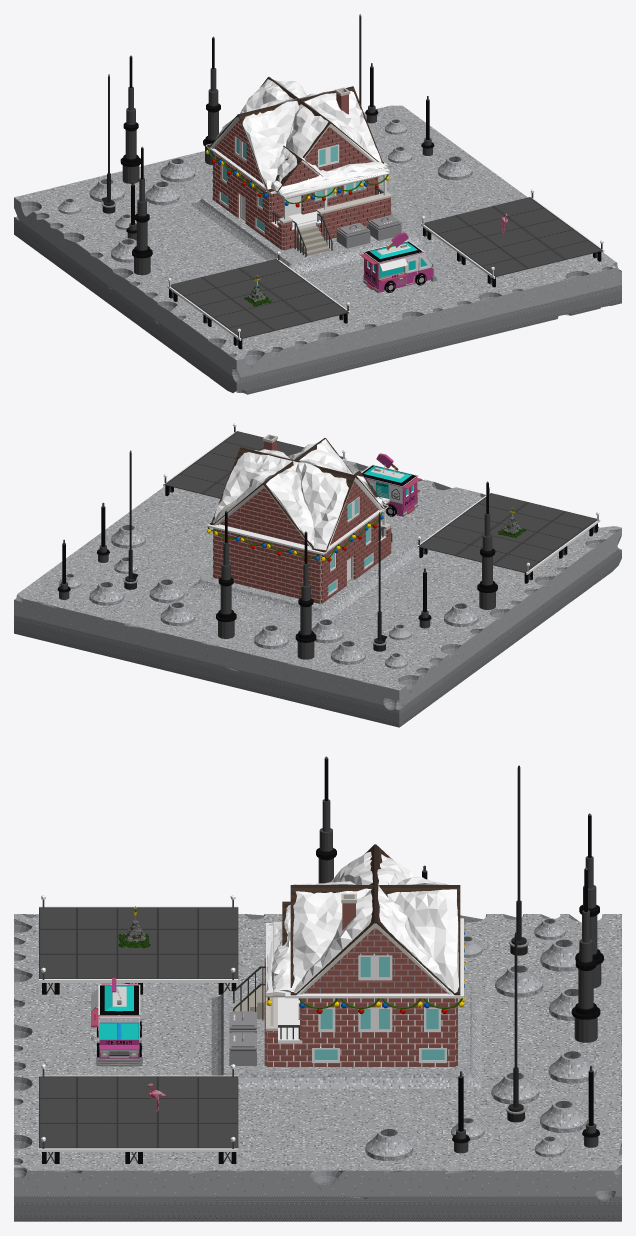
3 renders of one model, top to bottom at view 1: azimuth 30°, elevation 25°; view 2: azimuth 150°, elevation 25°; view 3: azimuth 270°, elevation 25°, orthographic. The views are drawn at different scales.
Parts seen in each view (by area): view 1: Cube.027, Cube.1419, Cube.026, Cube.025, Cube.028, VEHICLES_ICE_CREAM_TRUCK, Cylinder.020, Cylinder.021, Cylinder.017, Cube.029, Cube.030, Cylinder.027 (+3 smaller); view 2: Cube.027, Cube.1419, Cube.025, Cube.028, Cube.026, VEHICLES_ICE_CREAM_TRUCK, Cylinder.020, Cylinder.021, Cylinder.017, Cylinder.031, Cylinder.028, Cylinder.029 (+7 smaller); view 3: Cube.027, Cube.1419, Cube.026, Cube.025, Cube.028, VEHICLES_ICE_CREAM_TRUCK, Cylinder.017, Cylinder.020, Cylinder.021, Cylinder.033, Cylinder.031, Cylinder.029 (+9 smaller).
Boxes of the visible parts, x1=… form: Cube.027: x1=14, y1=105, x2=621, y2=394; Cube.1419: x1=205, y1=77, x2=392, y2=256; Cube.026: x1=421, y1=189, x2=604, y2=287; Cube.025: x1=167, y1=251, x2=350, y2=349; Cube.028: x1=191, y1=195, x2=424, y2=274; VEHICLES_ICE_CREAM_TRUCK: x1=360, y1=232, x2=437, y2=292; Cylinder.020: x1=120, y1=55, x2=140, y2=183; Cylinder.021: x1=132, y1=146, x2=152, y2=275; Cylinder.017: x1=203, y1=36, x2=220, y2=164; Cube.029: x1=336, y1=222, x2=370, y2=248; Cube.030: x1=368, y1=215, x2=401, y2=240; Cylinder.027: x1=160, y1=158, x2=195, y2=182; Cube.027: x1=14, y1=460, x2=621, y2=727; Cube.1419: x1=207, y1=434, x2=392, y2=603; Cube.025: x1=417, y1=485, x2=600, y2=583; Cube.028: x1=190, y1=538, x2=419, y2=620; Cube.026: x1=163, y1=423, x2=346, y2=498; VEHICLES_ICE_CREAM_TRUCK: x1=361, y1=453, x2=420, y2=516; Cylinder.020: x1=295, y1=531, x2=316, y2=659; Cylinder.021: x1=477, y1=481, x2=497, y2=609; Cylinder.017: x1=216, y1=510, x2=236, y2=638; Cylinder.031: x1=89, y1=581, x2=124, y2=605; Cylinder.028: x1=331, y1=640, x2=365, y2=664; Cylinder.029: x1=160, y1=601, x2=195, y2=626; Cube.027: x1=14, y1=914, x2=621, y2=1221; Cube.1419: x1=233, y1=844, x2=464, y2=1066; Cube.026: x1=39, y1=1064, x2=238, y2=1163; Cube.025: x1=39, y1=895, x2=238, y2=994; Cube.028: x1=211, y1=991, x2=481, y2=1088; VEHICLES_ICE_CREAM_TRUCK: x1=91, y1=978, x2=147, y2=1066; Cylinder.017: x1=571, y1=867, x2=600, y2=1042; Cylinder.020: x1=575, y1=813, x2=603, y2=988; Cylinder.021: x1=316, y1=756, x2=336, y2=883; Cylinder.033: x1=365, y1=1128, x2=413, y2=1160; Cylinder.031: x1=540, y1=1100, x2=587, y2=1132; Cylinder.029: x1=548, y1=1050, x2=596, y2=1083.
Size of the model in its own units: 4000 by 1815 by 4000.
Materials: 54 (4 with a texture image).
